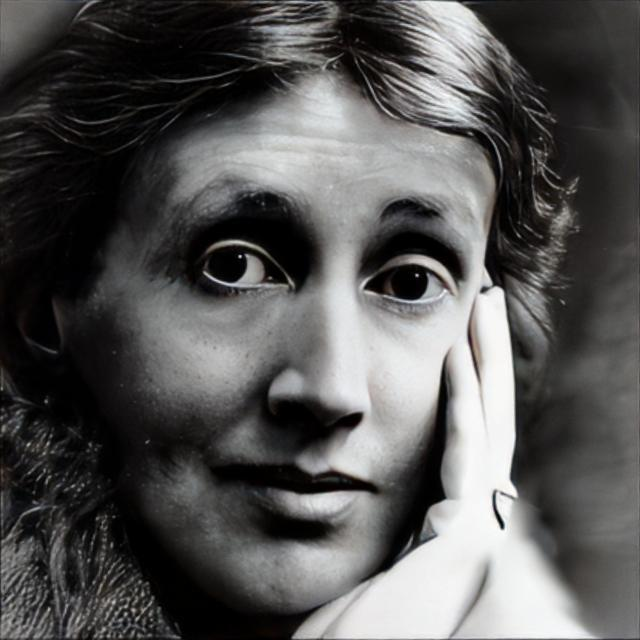content: (83, 72, 494, 615)
